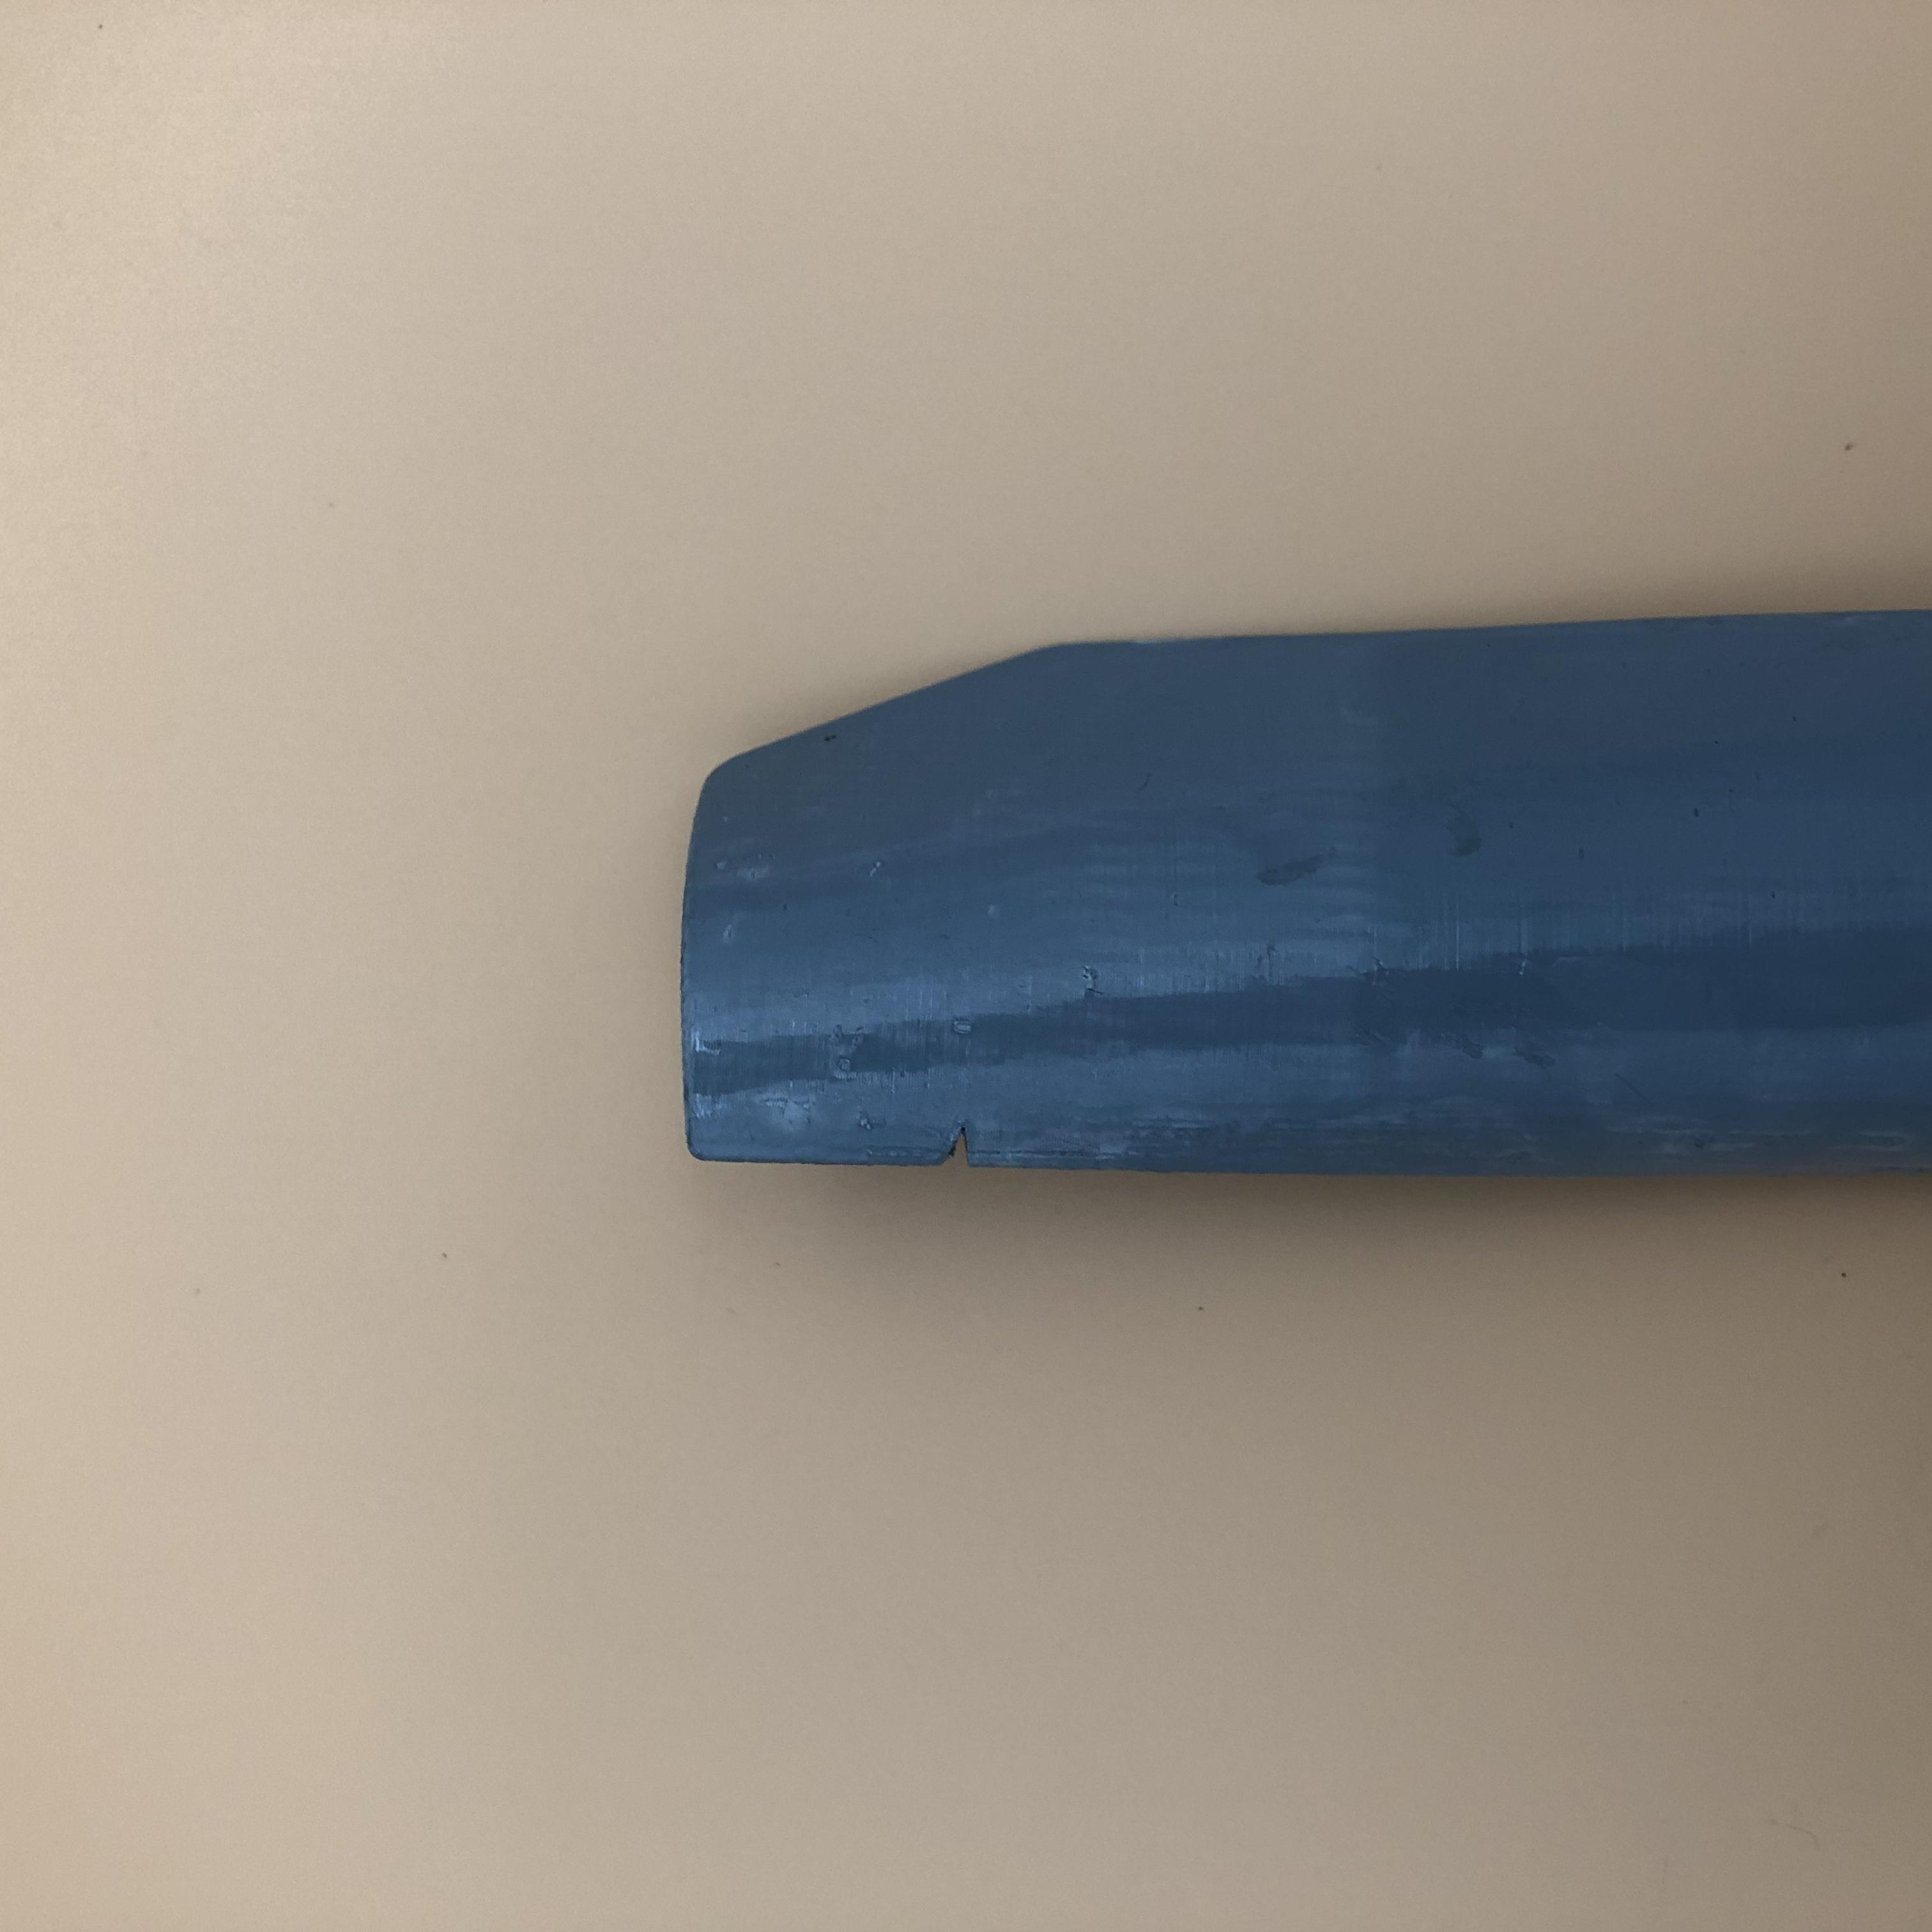groove: (941, 1122, 994, 1161)
